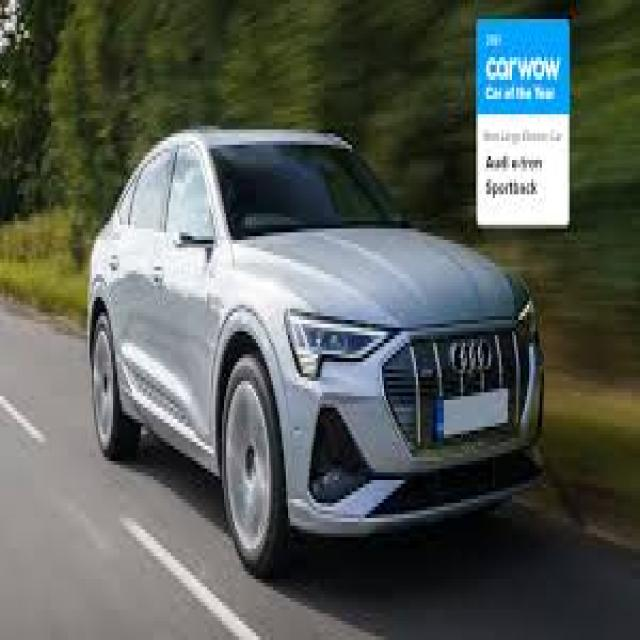Car: (88, 129, 542, 575)
